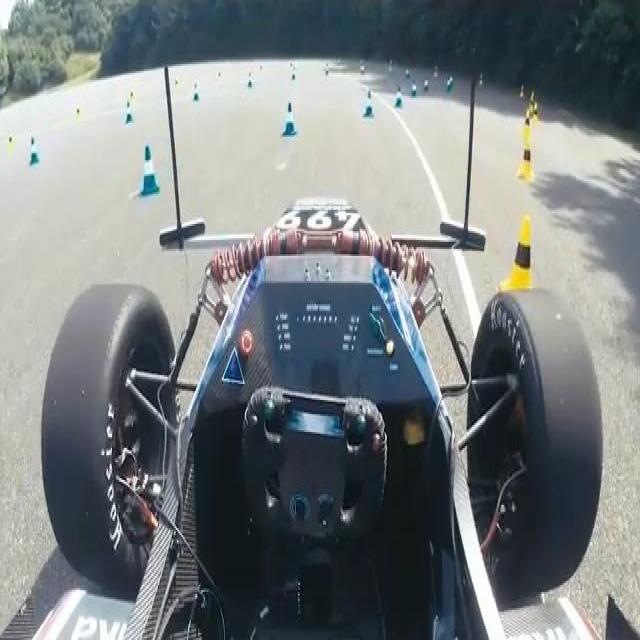blue_cone: (138, 142, 160, 198), (282, 101, 297, 138), (363, 89, 374, 120), (29, 135, 39, 167), (394, 85, 404, 112), (246, 69, 256, 91), (124, 100, 133, 122), (191, 80, 200, 101), (411, 80, 418, 99), (424, 78, 430, 97), (445, 80, 451, 96), (449, 73, 454, 90), (292, 66, 297, 82)
yellow_cone: (496, 210, 537, 305), (519, 137, 535, 183), (521, 108, 531, 141), (74, 105, 83, 130), (529, 94, 536, 123), (532, 103, 540, 128), (7, 132, 16, 152), (175, 76, 181, 99), (128, 89, 135, 108), (259, 62, 265, 84), (520, 83, 526, 103), (217, 70, 223, 90)
